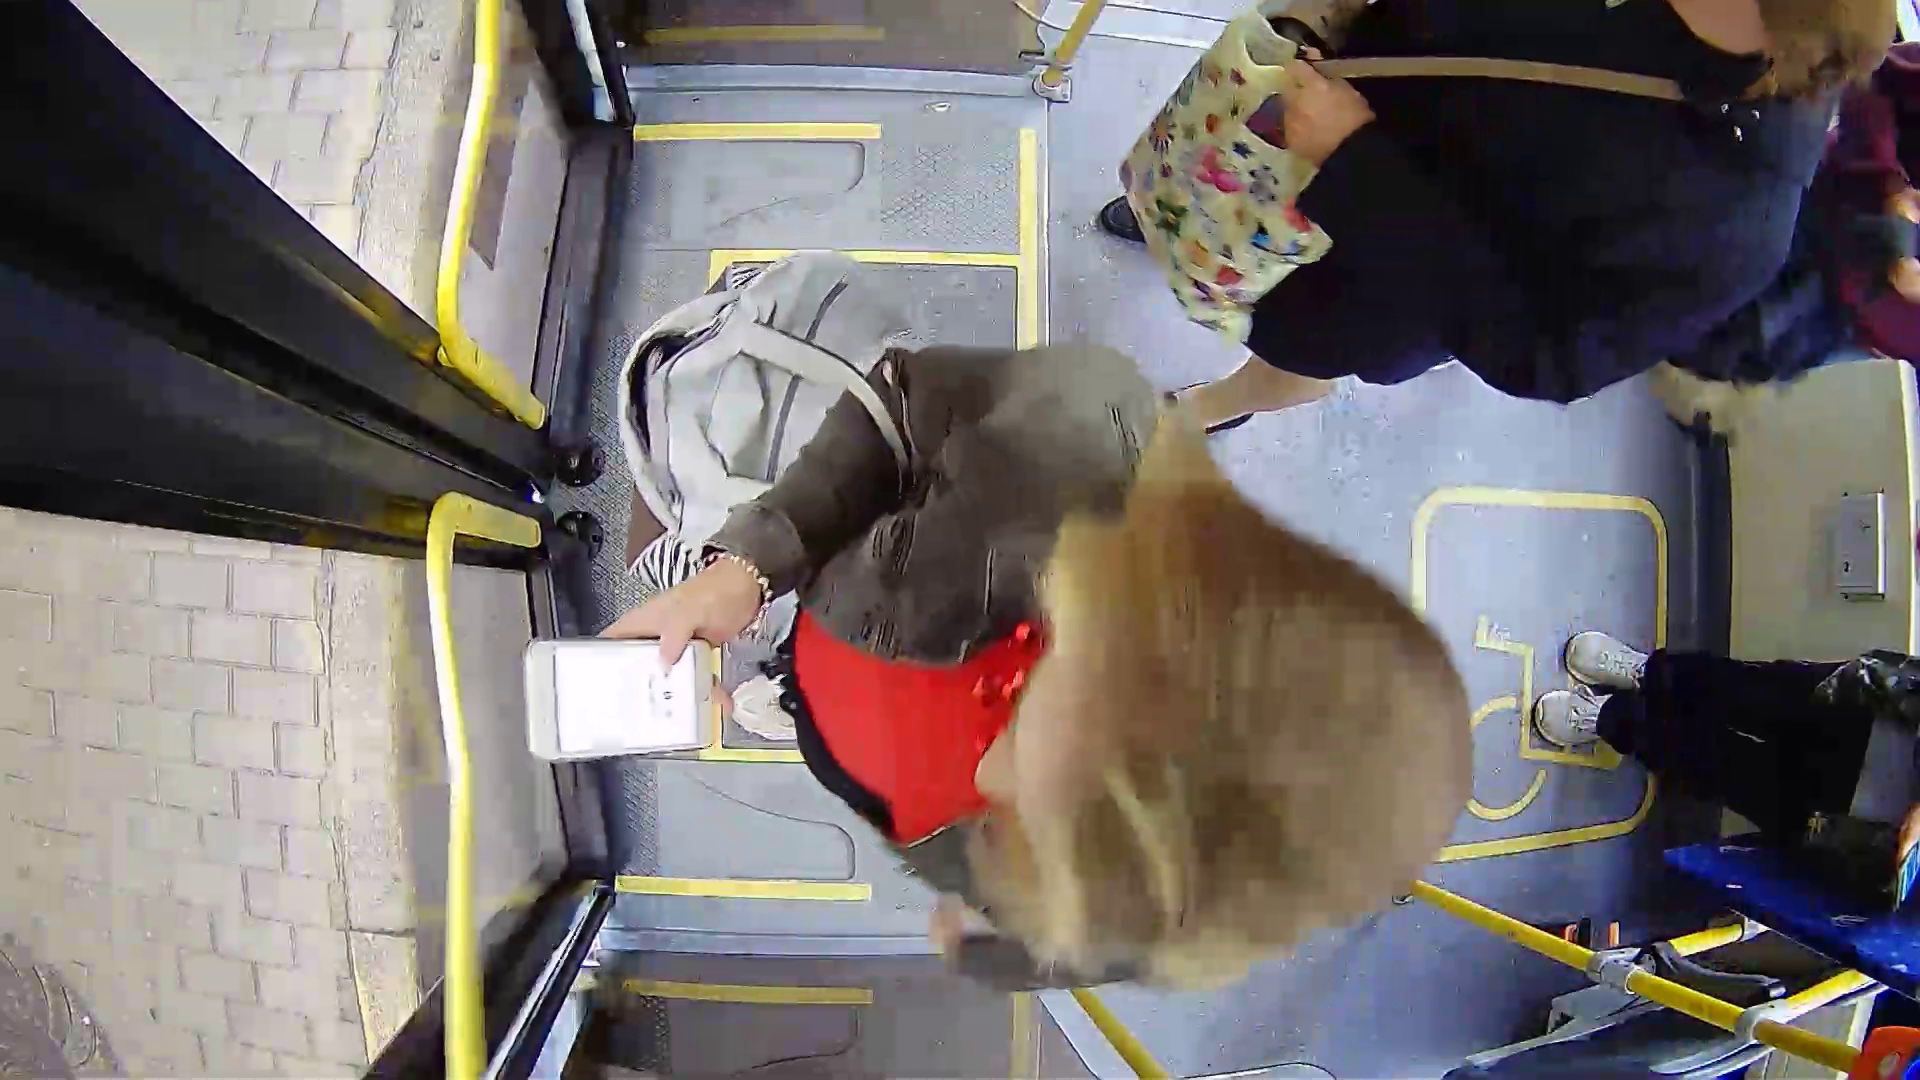person: (630, 272, 1496, 1006)
